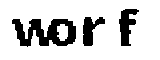f: (112, 5, 142, 51)
o: (50, 17, 78, 48)
r: (81, 16, 105, 49)
w: (9, 17, 53, 50)
